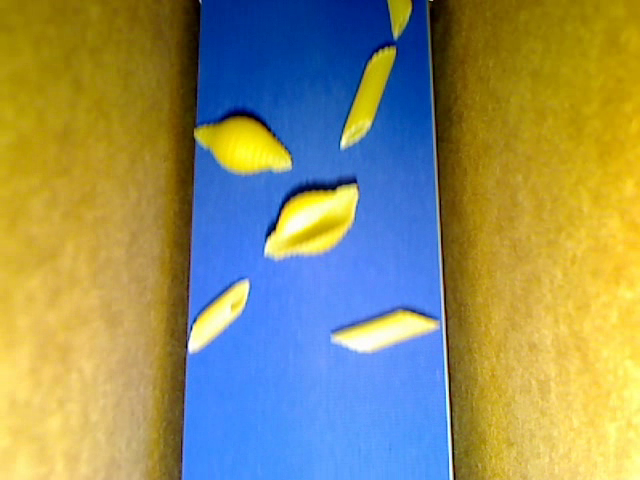penne: (340, 47, 397, 150), (328, 309, 440, 355), (186, 277, 249, 352), (386, 1, 412, 40)
shell: (261, 182, 359, 261), (193, 117, 292, 174)
